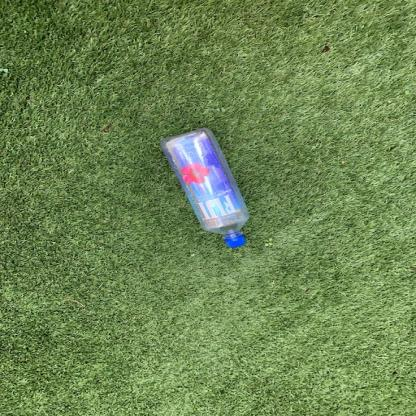trash: (160, 127, 251, 250)
